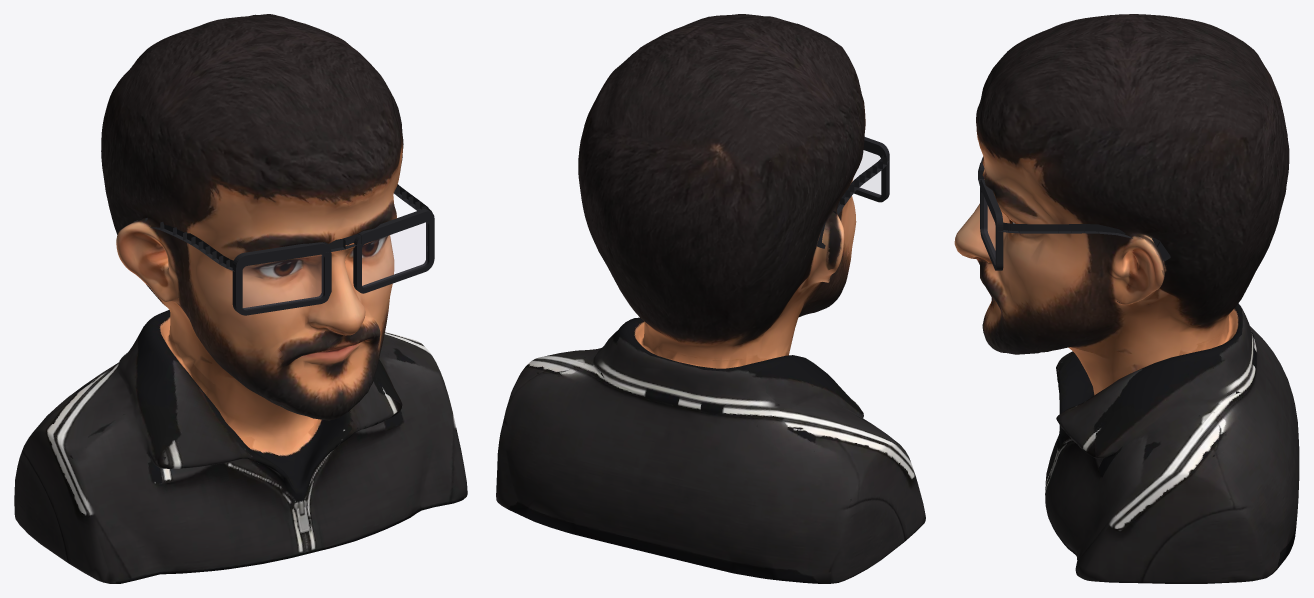
File: avatar.glb
3 renders of one model, left to right at view 1: azimuth 30°, elevation 25°; view 2: azimuth 150°, elevation 25°; view 3: azimuth 270°, elevation 25°, orthographic. The views are drawn at different scales.
Parts seen in each view (by area): view 1: AVATAR, GLASSES; view 2: AVATAR, GLASSES; view 3: AVATAR, GLASSES.
Part boxes in pixels (box(x1,y1,x2,y2)): AVATAR: box(14, 14, 467, 583); GLASSES: box(133, 184, 434, 315); AVATAR: box(496, 14, 925, 583); GLASSES: box(816, 137, 889, 248); AVATAR: box(954, 14, 1299, 583); GLASSES: box(978, 156, 1170, 270).
Size of the model in its own units: 0.2836 by 0.3451 by 0.2317.
Materials: 3 (1 with a texture image).
